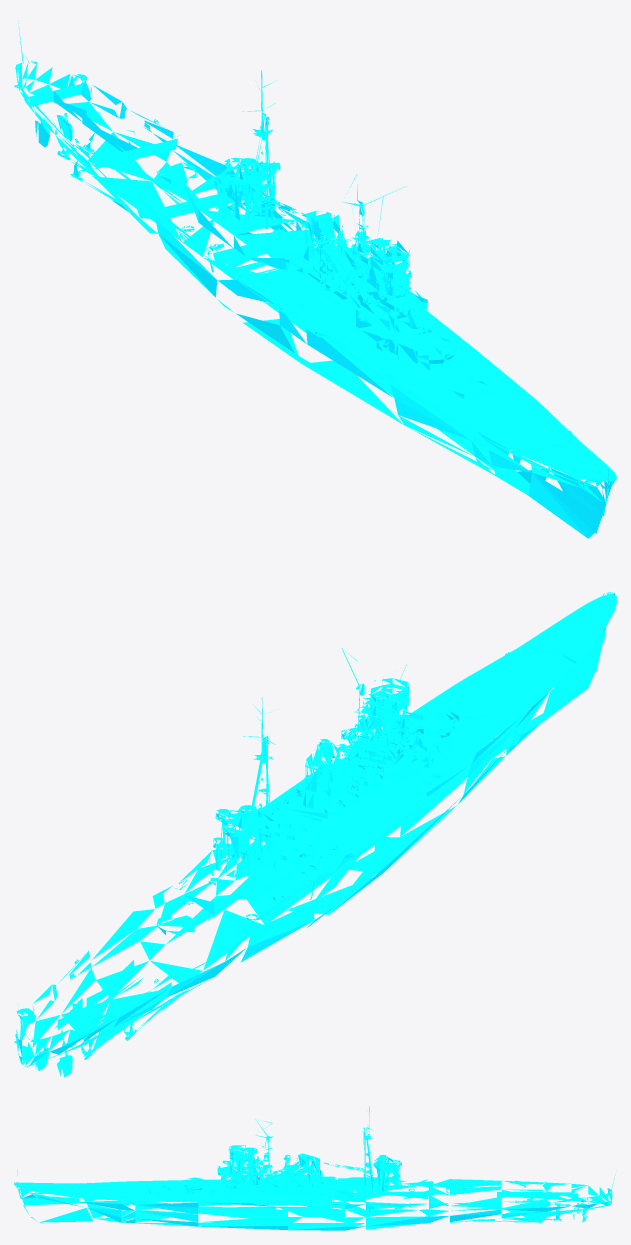
Rendered from Yari.glb.
3 renders of one model, top to bottom at view 1: azimuth 30°, elevation 25°; view 2: azimuth 150°, elevation 25°; view 3: azimuth 270°, elevation 25°, orthographic. The views are drawn at different scales.
Size of the model in its own units: 1.71 by 3.19 by 14.94.
